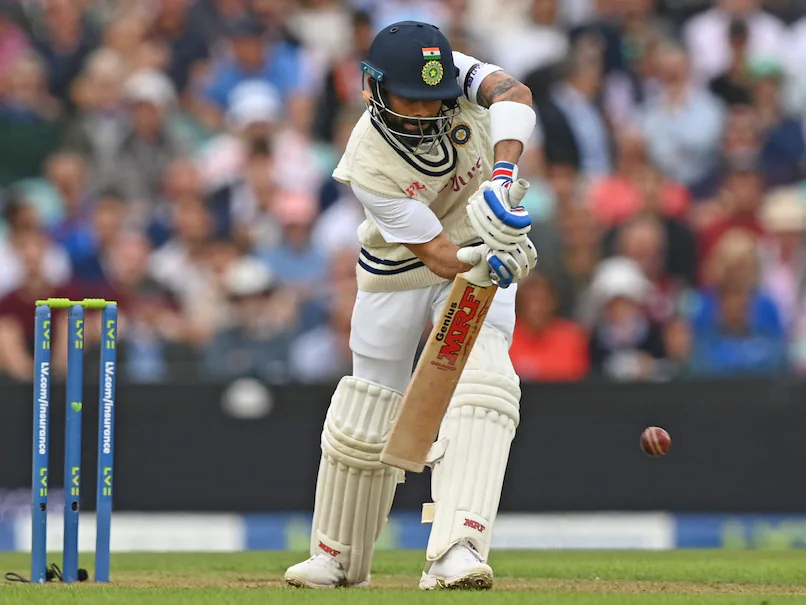Defence: (212, 5, 734, 603)
